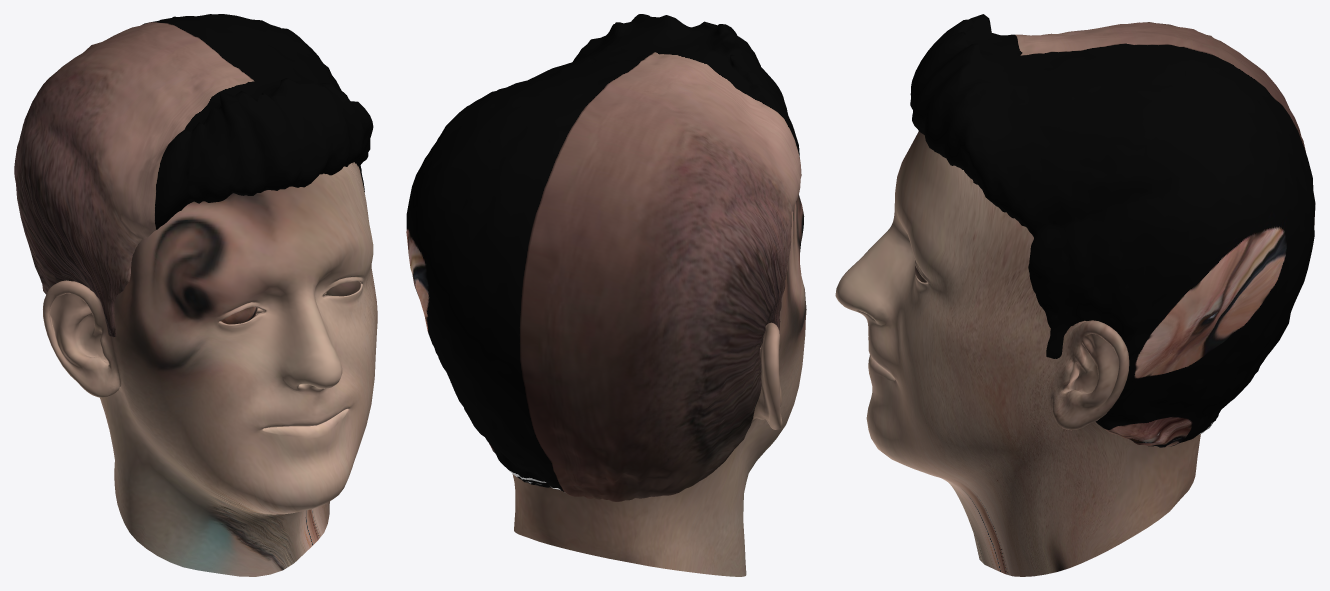
The picture shows the model from 3 angles, left to right: view 1: azimuth 30°, elevation 25°; view 2: azimuth 150°, elevation 25°; view 3: azimuth 270°, elevation 25°; orthographic projection. The views are drawn at different scales.
Parts seen in each view (by area): view 1: Head; view 2: Head; view 3: Head.
Boxes of the visible parts, <box> form: Head: <box>14,14,377,576</box>; Head: <box>406,14,806,576</box>; Head: <box>835,14,1315,576</box>.
Size of the model in its own units: 0.1877 by 0.2843 by 0.2388.
